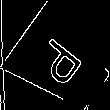P_SE: (31, 33, 90, 93)
